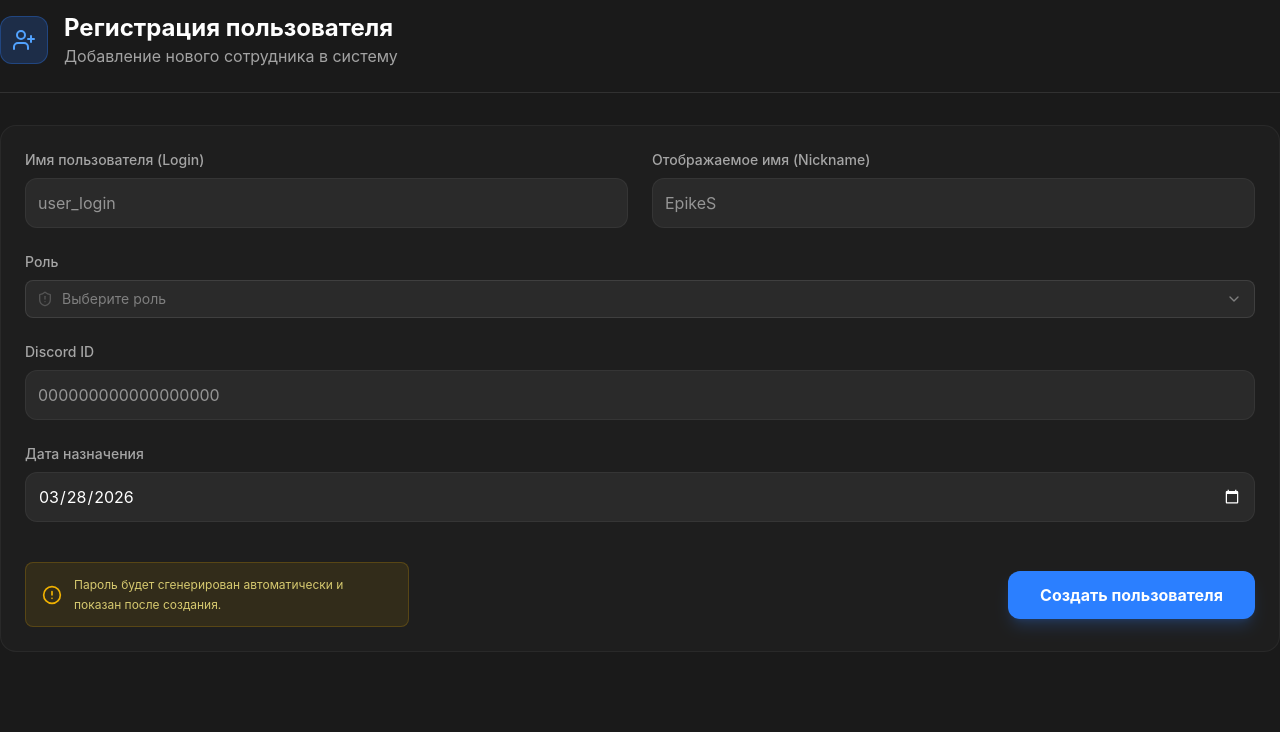
Scenario: UserRegistration › shows manager-allowed roles only (no manager/developer)
The width and height of the screenshot is (1280, 732).
Click the text "Выберите роль".
click(114, 299)  # box [62, 289, 166, 309]
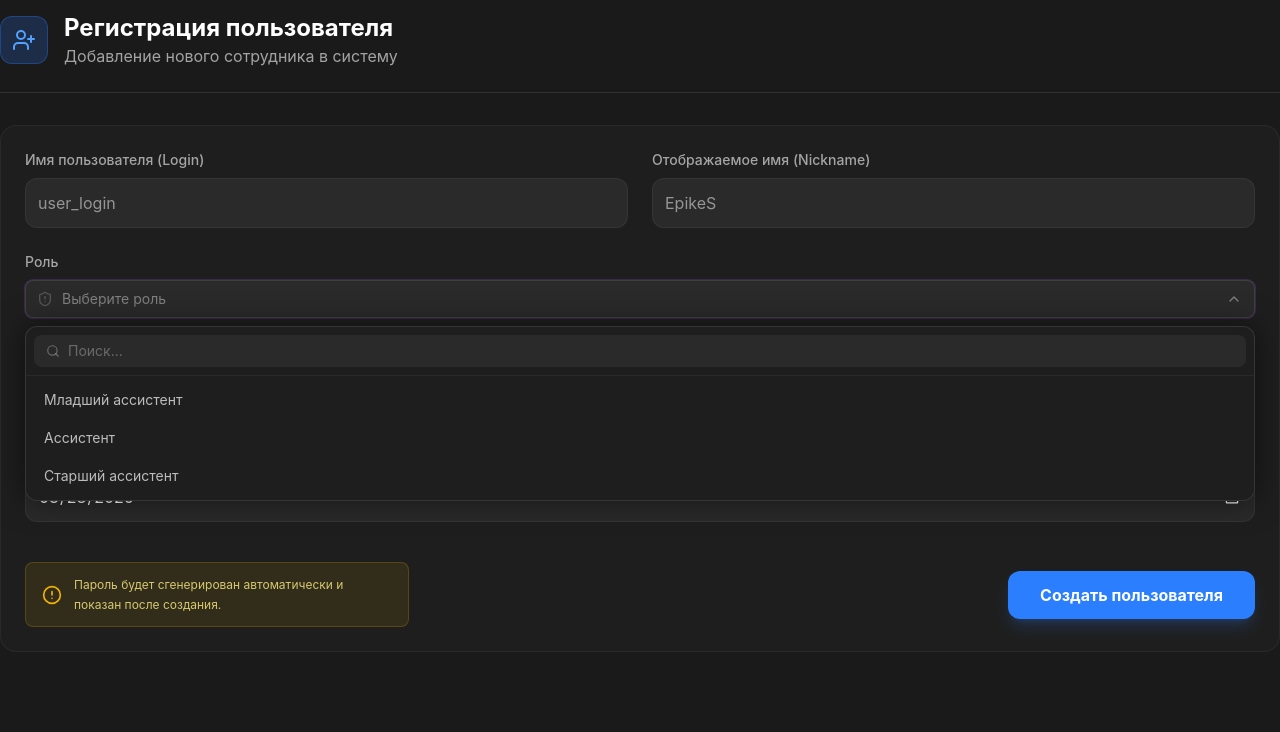
Check: the text "Младший ассистент" is shown, box [44, 390, 182, 410]
Check: the text "Ассистент" is shown, box [44, 428, 115, 448]
Check: the text "Старший ассистент" is shown, box [44, 466, 178, 486]
